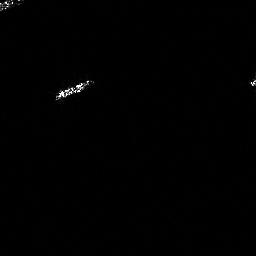ship: (51, 76, 97, 104)
